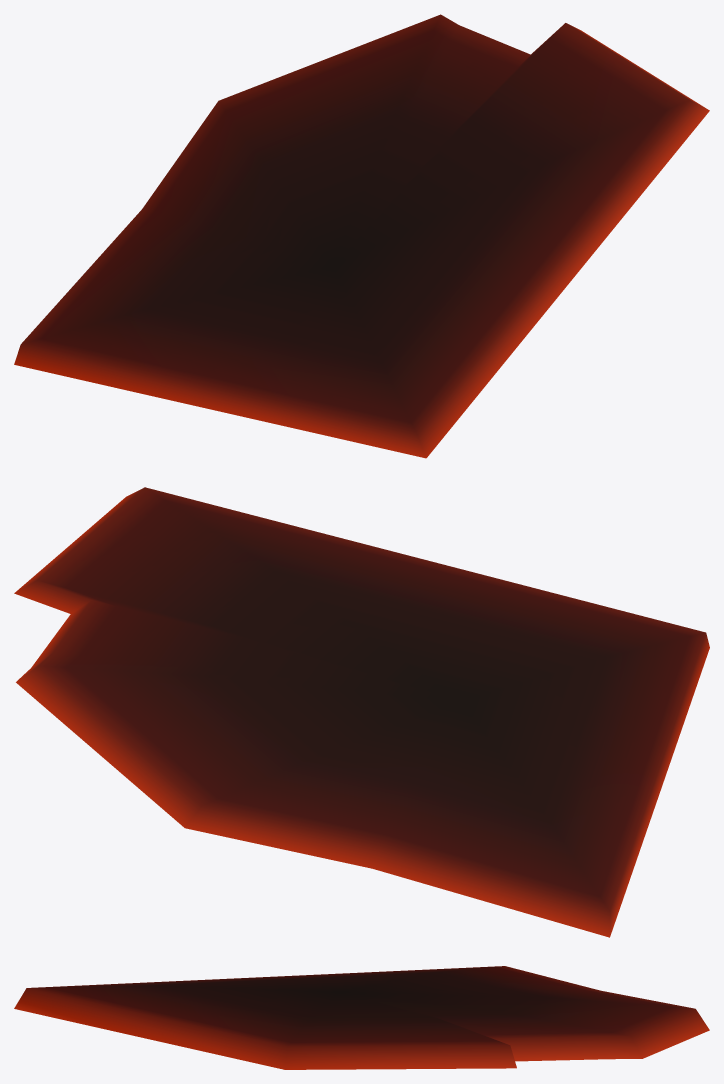
The model's file is raft_m18.glb.
3 renders of one model, top to bottom at view 1: azimuth 30°, elevation 25°; view 2: azimuth 150°, elevation 25°; view 3: azimuth 270°, elevation 25°, orthographic. The views are drawn at different scales.
Parts seen in each view (by area): view 1: raft; view 2: raft; view 3: raft.
Boxes of the visible parts, x1,y1,x2,y2 form: raft: (14, 14, 709, 458); raft: (14, 487, 709, 937); raft: (14, 966, 709, 1069).
Bounding box in the file's own units: 1.38 × 0.4804 × 1.46.
